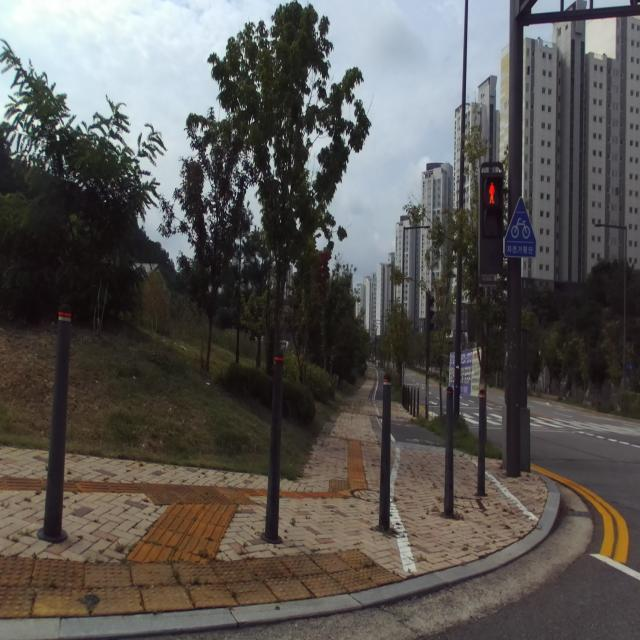빨간불: (478, 162, 504, 285)
